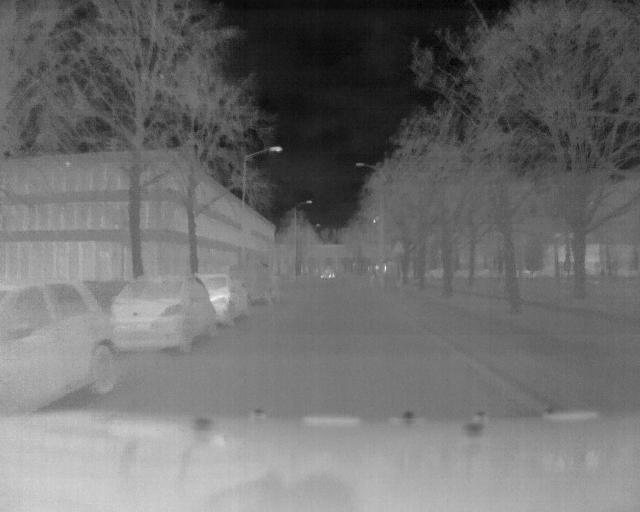car: (1, 280, 123, 416), (108, 270, 221, 354), (194, 273, 252, 321), (225, 260, 283, 307)
